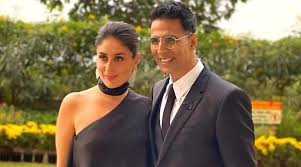Bad: (55, 2, 258, 166)
